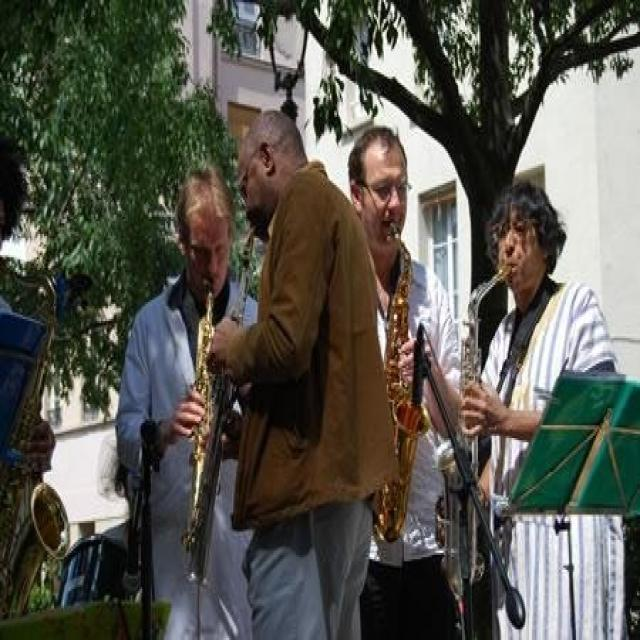clarinet: (181, 227, 264, 588), (179, 286, 224, 559)
saxophone: (0, 253, 74, 623), (435, 261, 514, 589), (366, 230, 425, 544)
